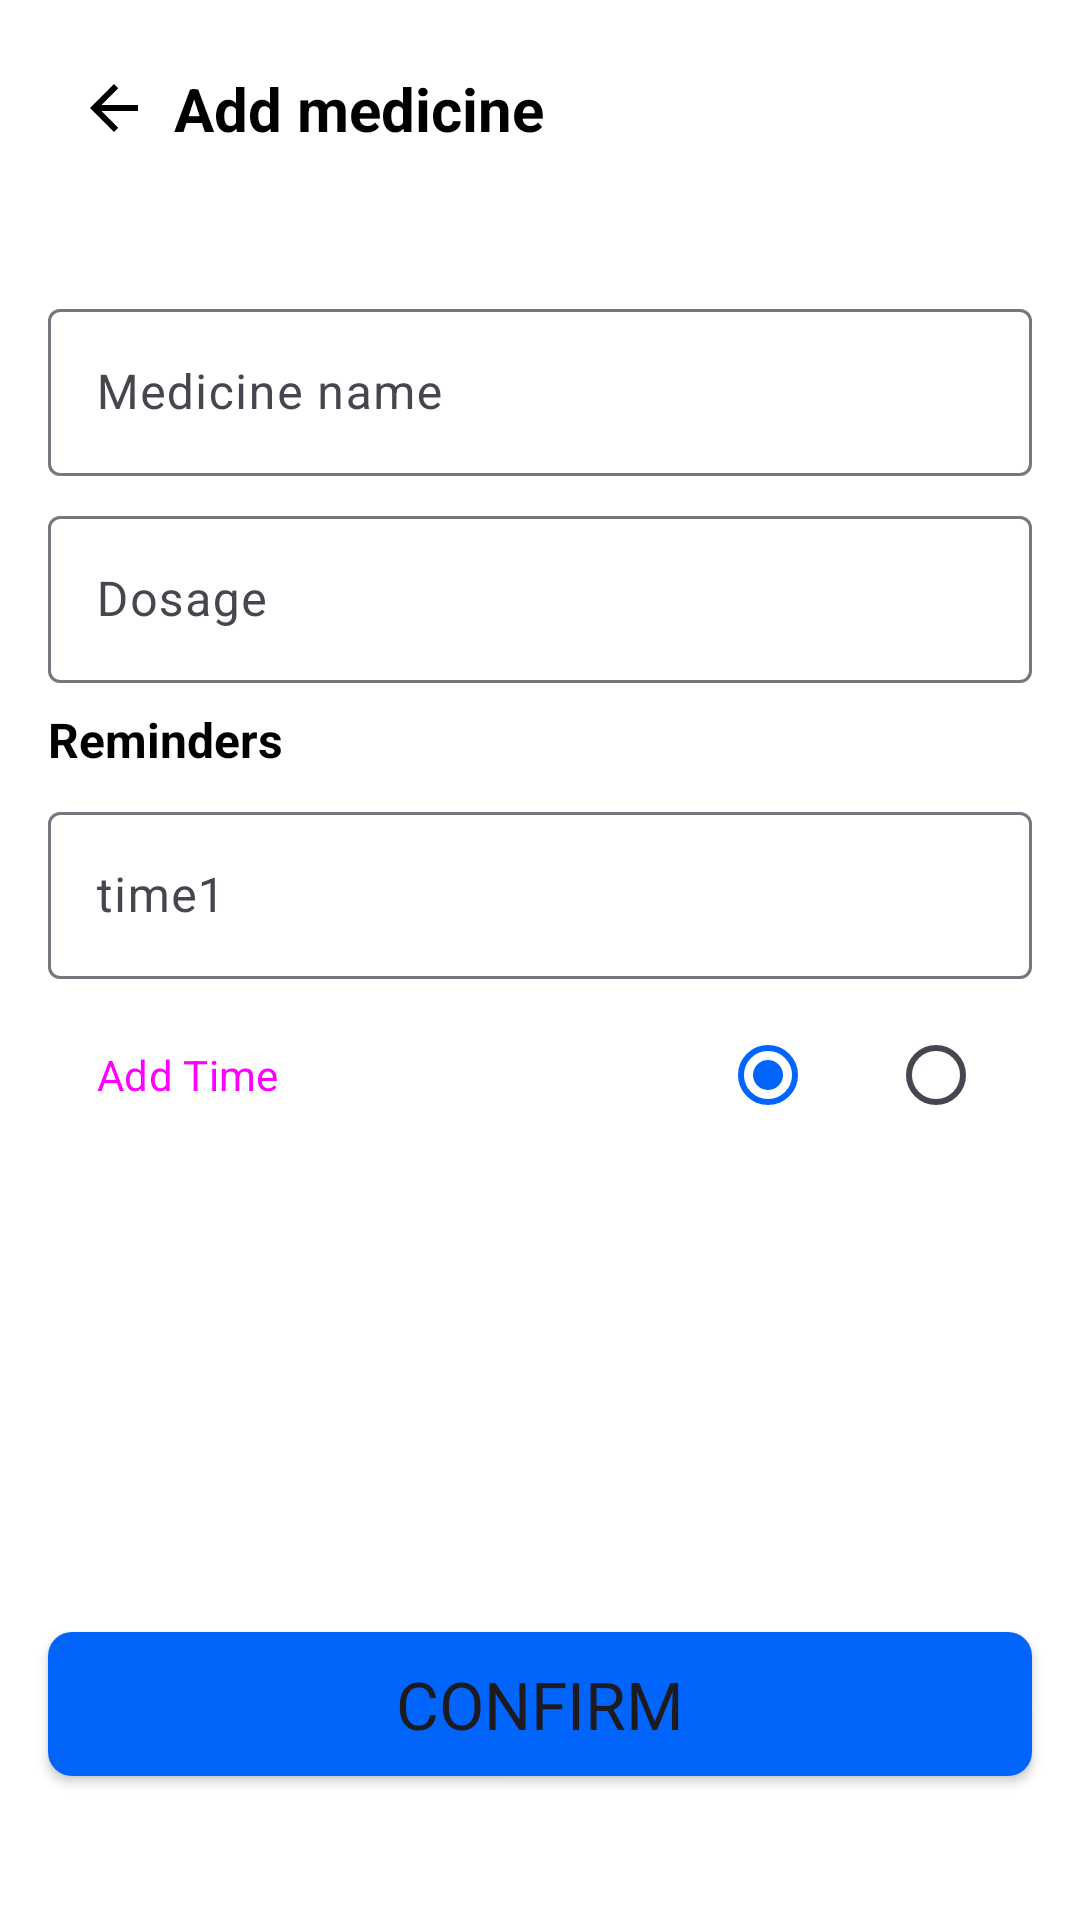

Named icons in this screenshot (1080 x 1920) and their bounding boxes, (x1, y1, x2, y2):
left arrow: (90, 84, 138, 132)
